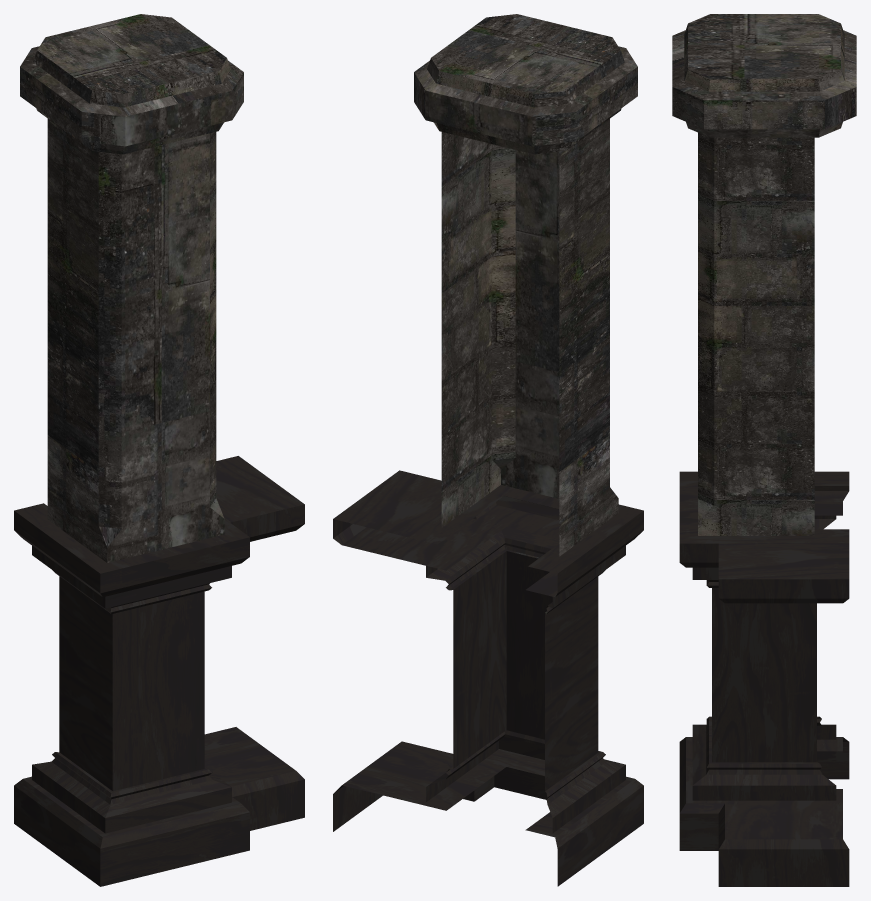
Rendered from right_column.fbx.
The picture shows the model from 3 angles, left to right: view 1: azimuth 30°, elevation 25°; view 2: azimuth 150°, elevation 25°; view 3: azimuth 270°, elevation 25°; orthographic projection.
Parts seen in each view (by area): view 1: [Imported] r_column; view 2: [Imported] r_column; view 3: [Imported] r_column.
Boxes of the visible parts, x1,y1,x2,y2 form: [Imported] r_column: (14,14,304,886); [Imported] r_column: (333,14,643,886); [Imported] r_column: (672,14,856,886).
Bounding box in the file's own units: 395 × 1280 × 278.
2 materials, 2 textured.
